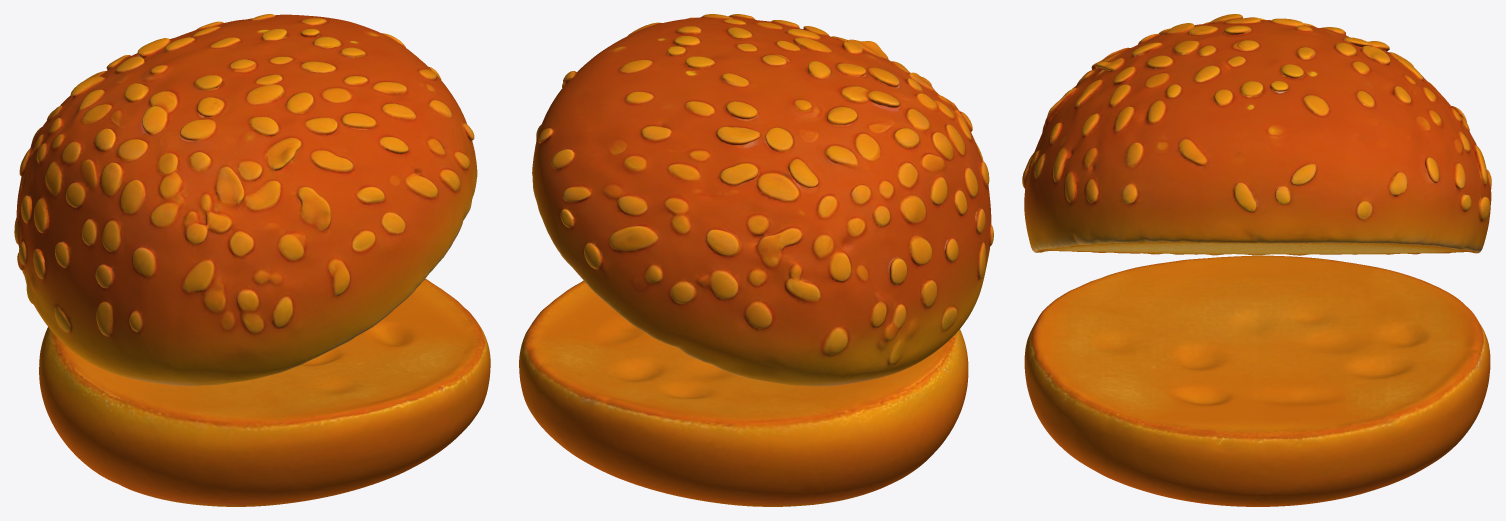
File: tripo_convert_59cbb69d-ebfe-49e5-be47-ad1348325f0b.fbx
3 views of the same model, side by side, from view 1: azimuth 30°, elevation 25°; view 2: azimuth 150°, elevation 25°; view 3: azimuth 270°, elevation 25° (orthographic). The views are drawn at different scales.
Parts seen in each view (by area): view 1: tripo_node_59cbb69d; view 2: tripo_node_59cbb69d; view 3: tripo_node_59cbb69d.
Part boxes in pixels (x1,y1,x2,y2): tripo_node_59cbb69d: (14,14,490,506); tripo_node_59cbb69d: (519,14,993,506); tripo_node_59cbb69d: (1022,14,1491,506).
Size of the model in its own units: 0.9998 by 0.9666 by 0.9983.
